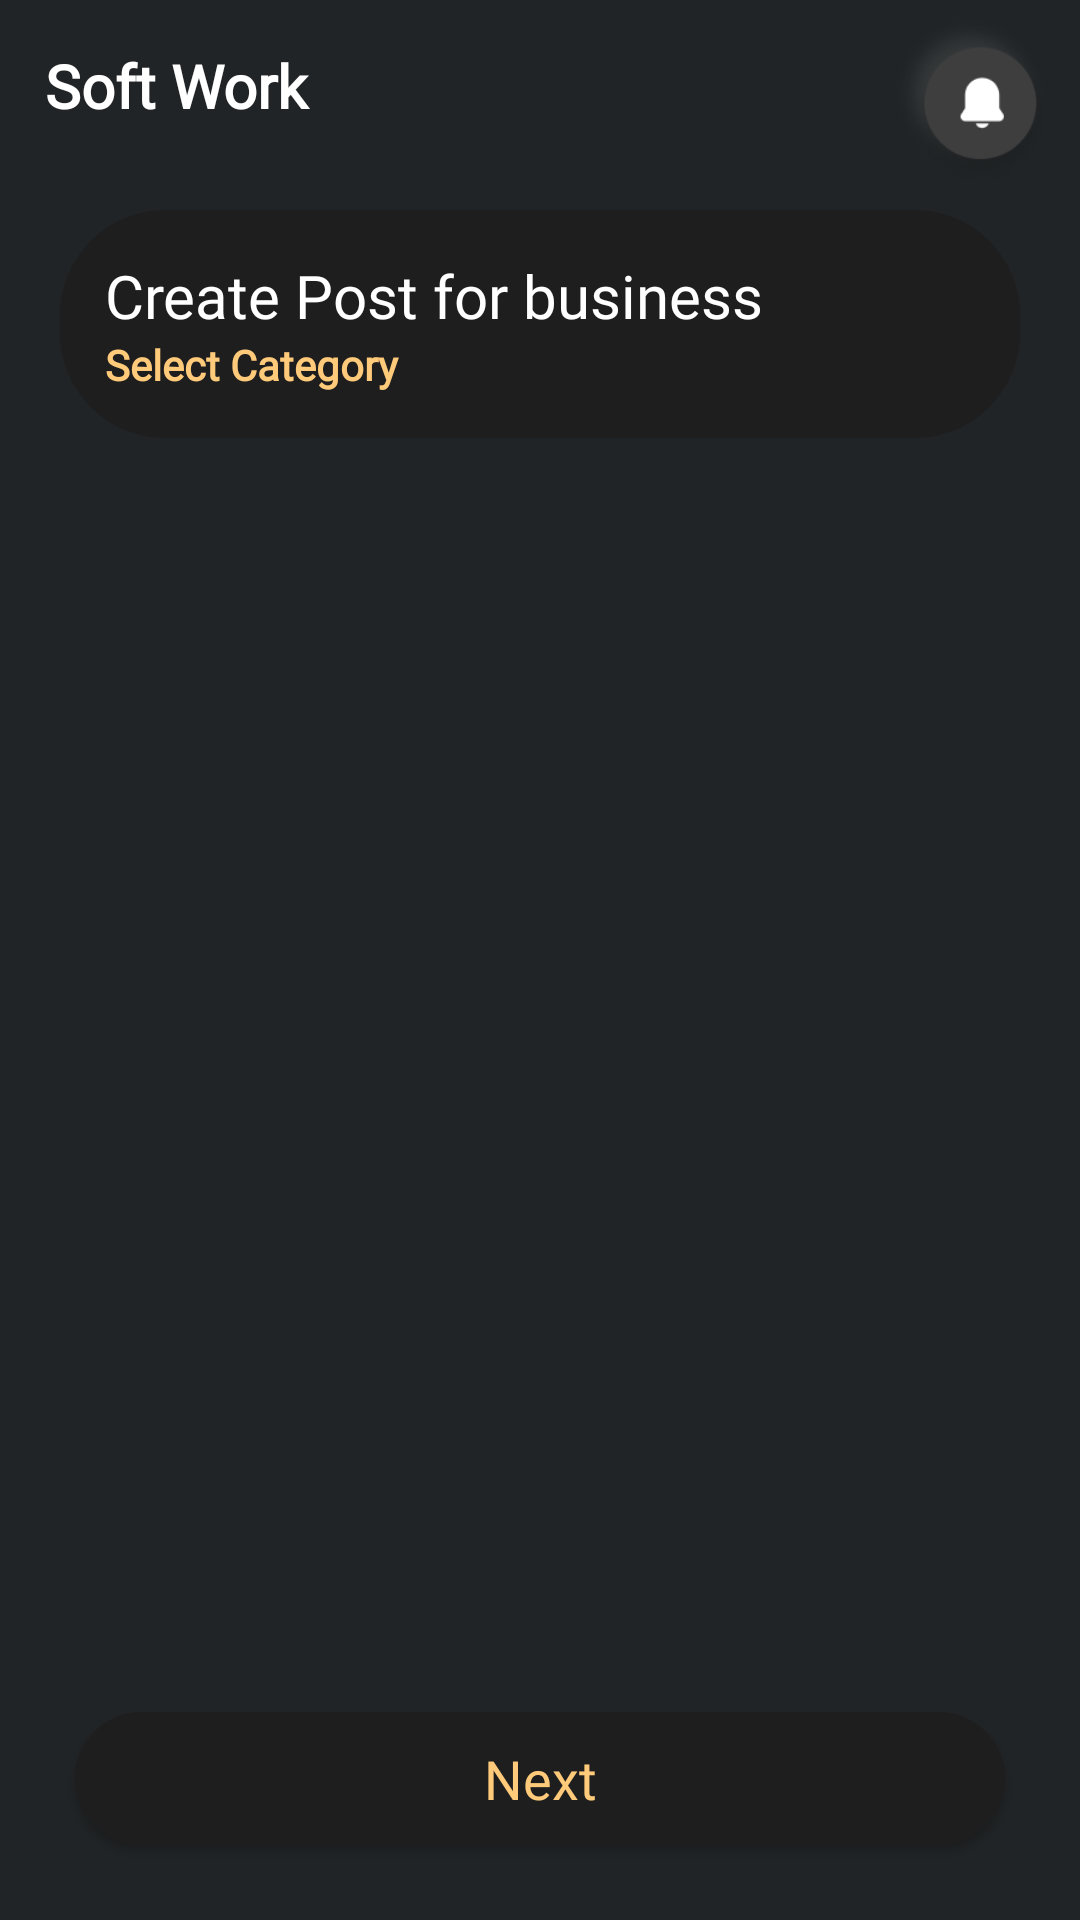

Screen size 1080px×1920px. Icon name, then its box in pixels as (x1, y1, x2, y2):
notification: (925, 48, 1036, 159)
